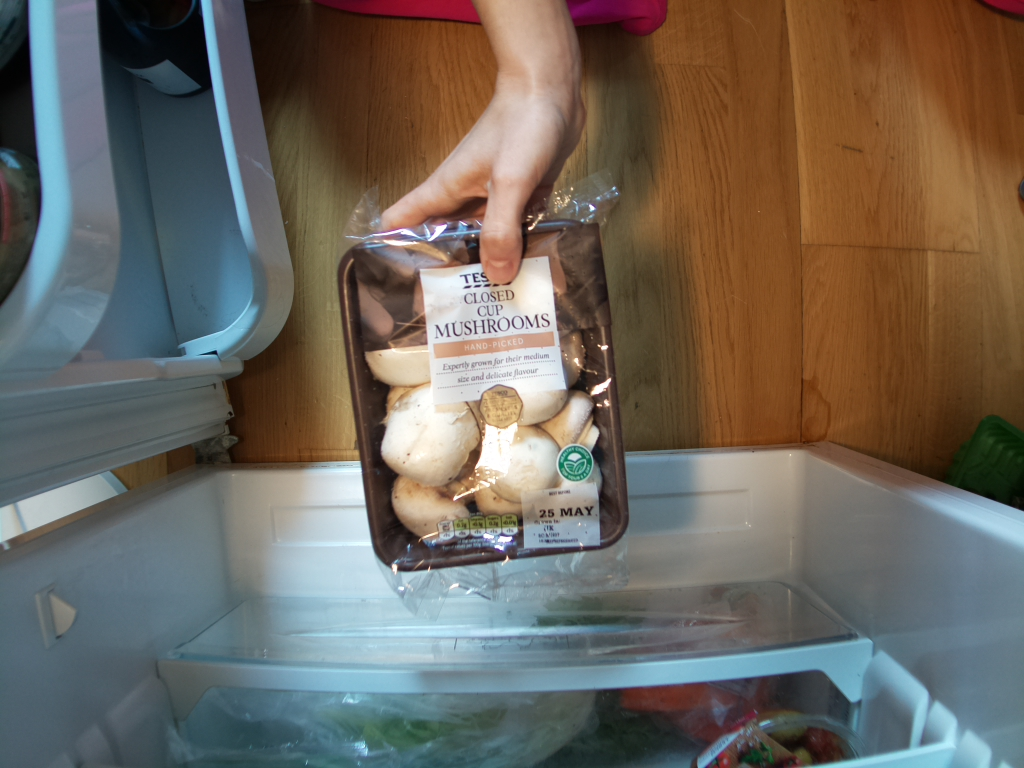mushrooms: (327, 198, 636, 582)
